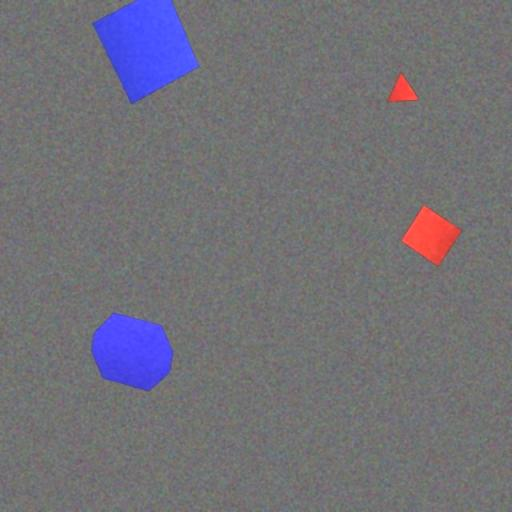BLUE_SQUARE: (91, 0, 200, 105)
RED_SQUARE: (401, 205, 463, 267)
